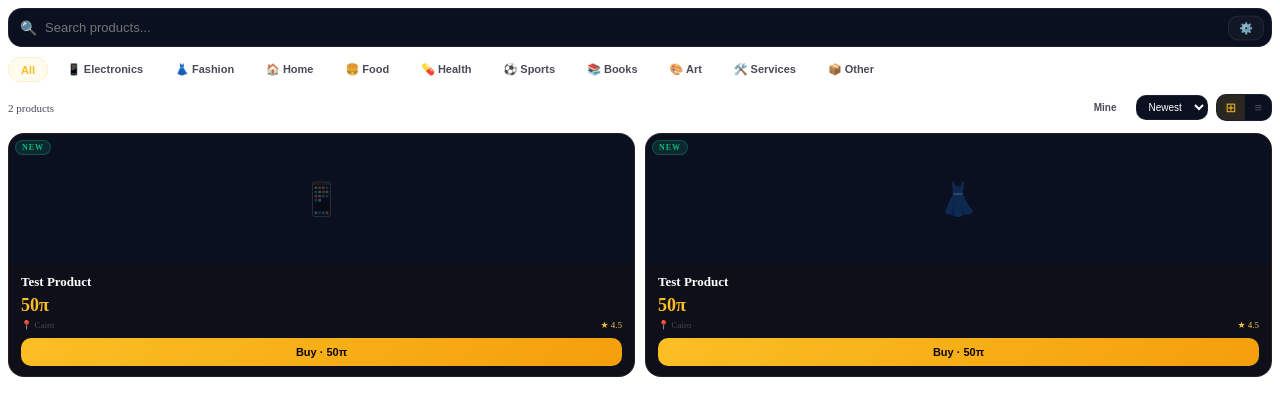
Test: ProductsTab › All category يرجع كل المنتجات
What coordinates should you click on to do the following:
click the button "👗 Fashion"
I would click on:
 (205, 70)
Its box is [162,57,247,82].
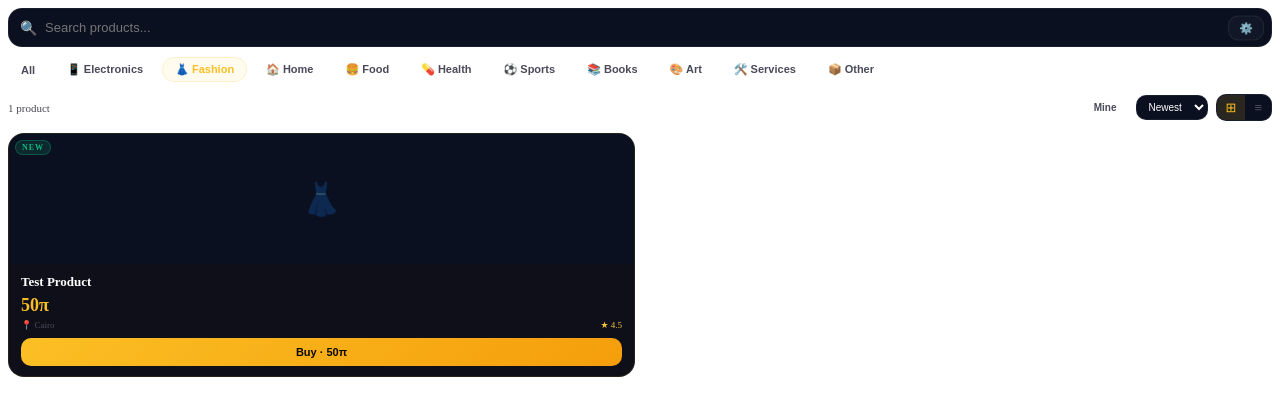
What coordinates should you click on to do the following:
click the button "All"
I would click on:
 (28, 70)
Its box is [8,57,48,82].
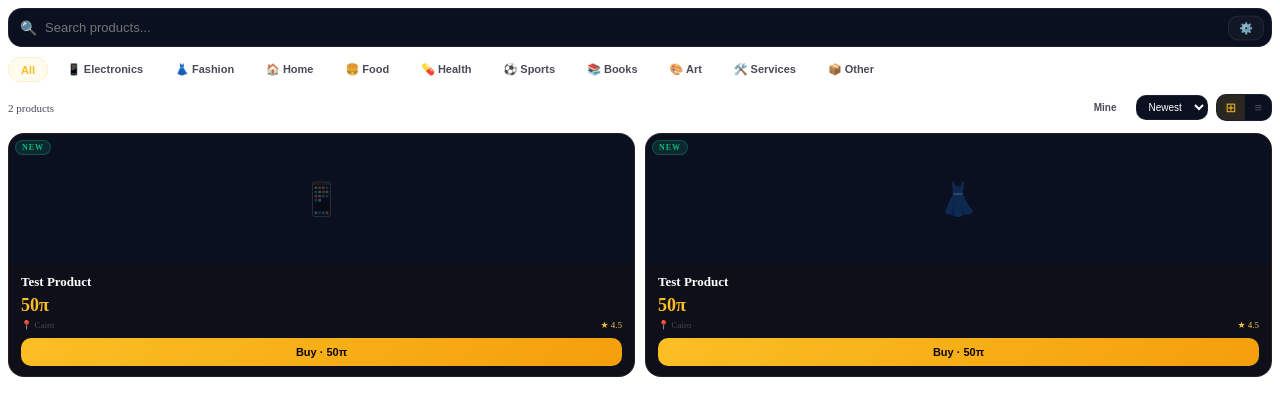
Expected: the element with test id "card-p2" is shown, [645,133,1272,377]
Expected: the element with test id "card-p1" is shown, [8,133,635,377]
